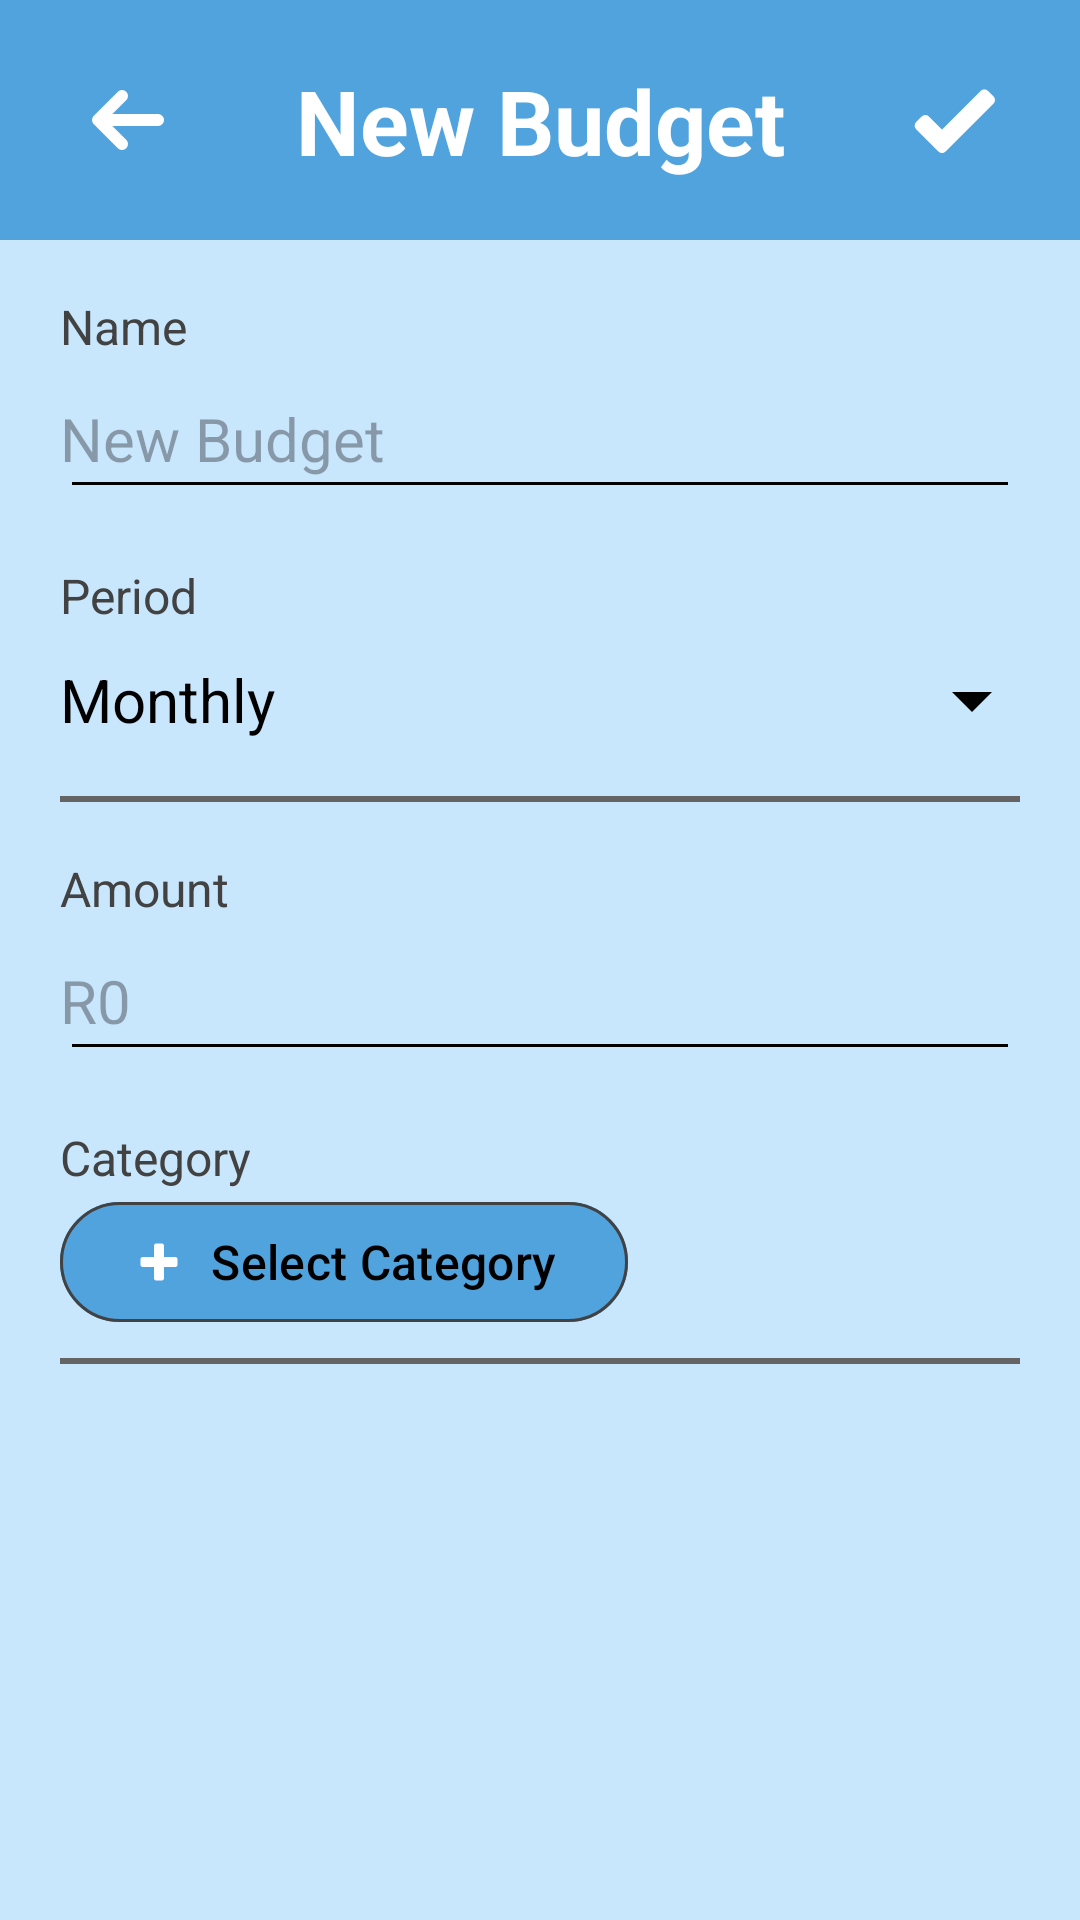

Point at icon controls on the screen. Image size 1080x1920, points as (x,y).
arrow back: (128,120)
check: (954,121)
